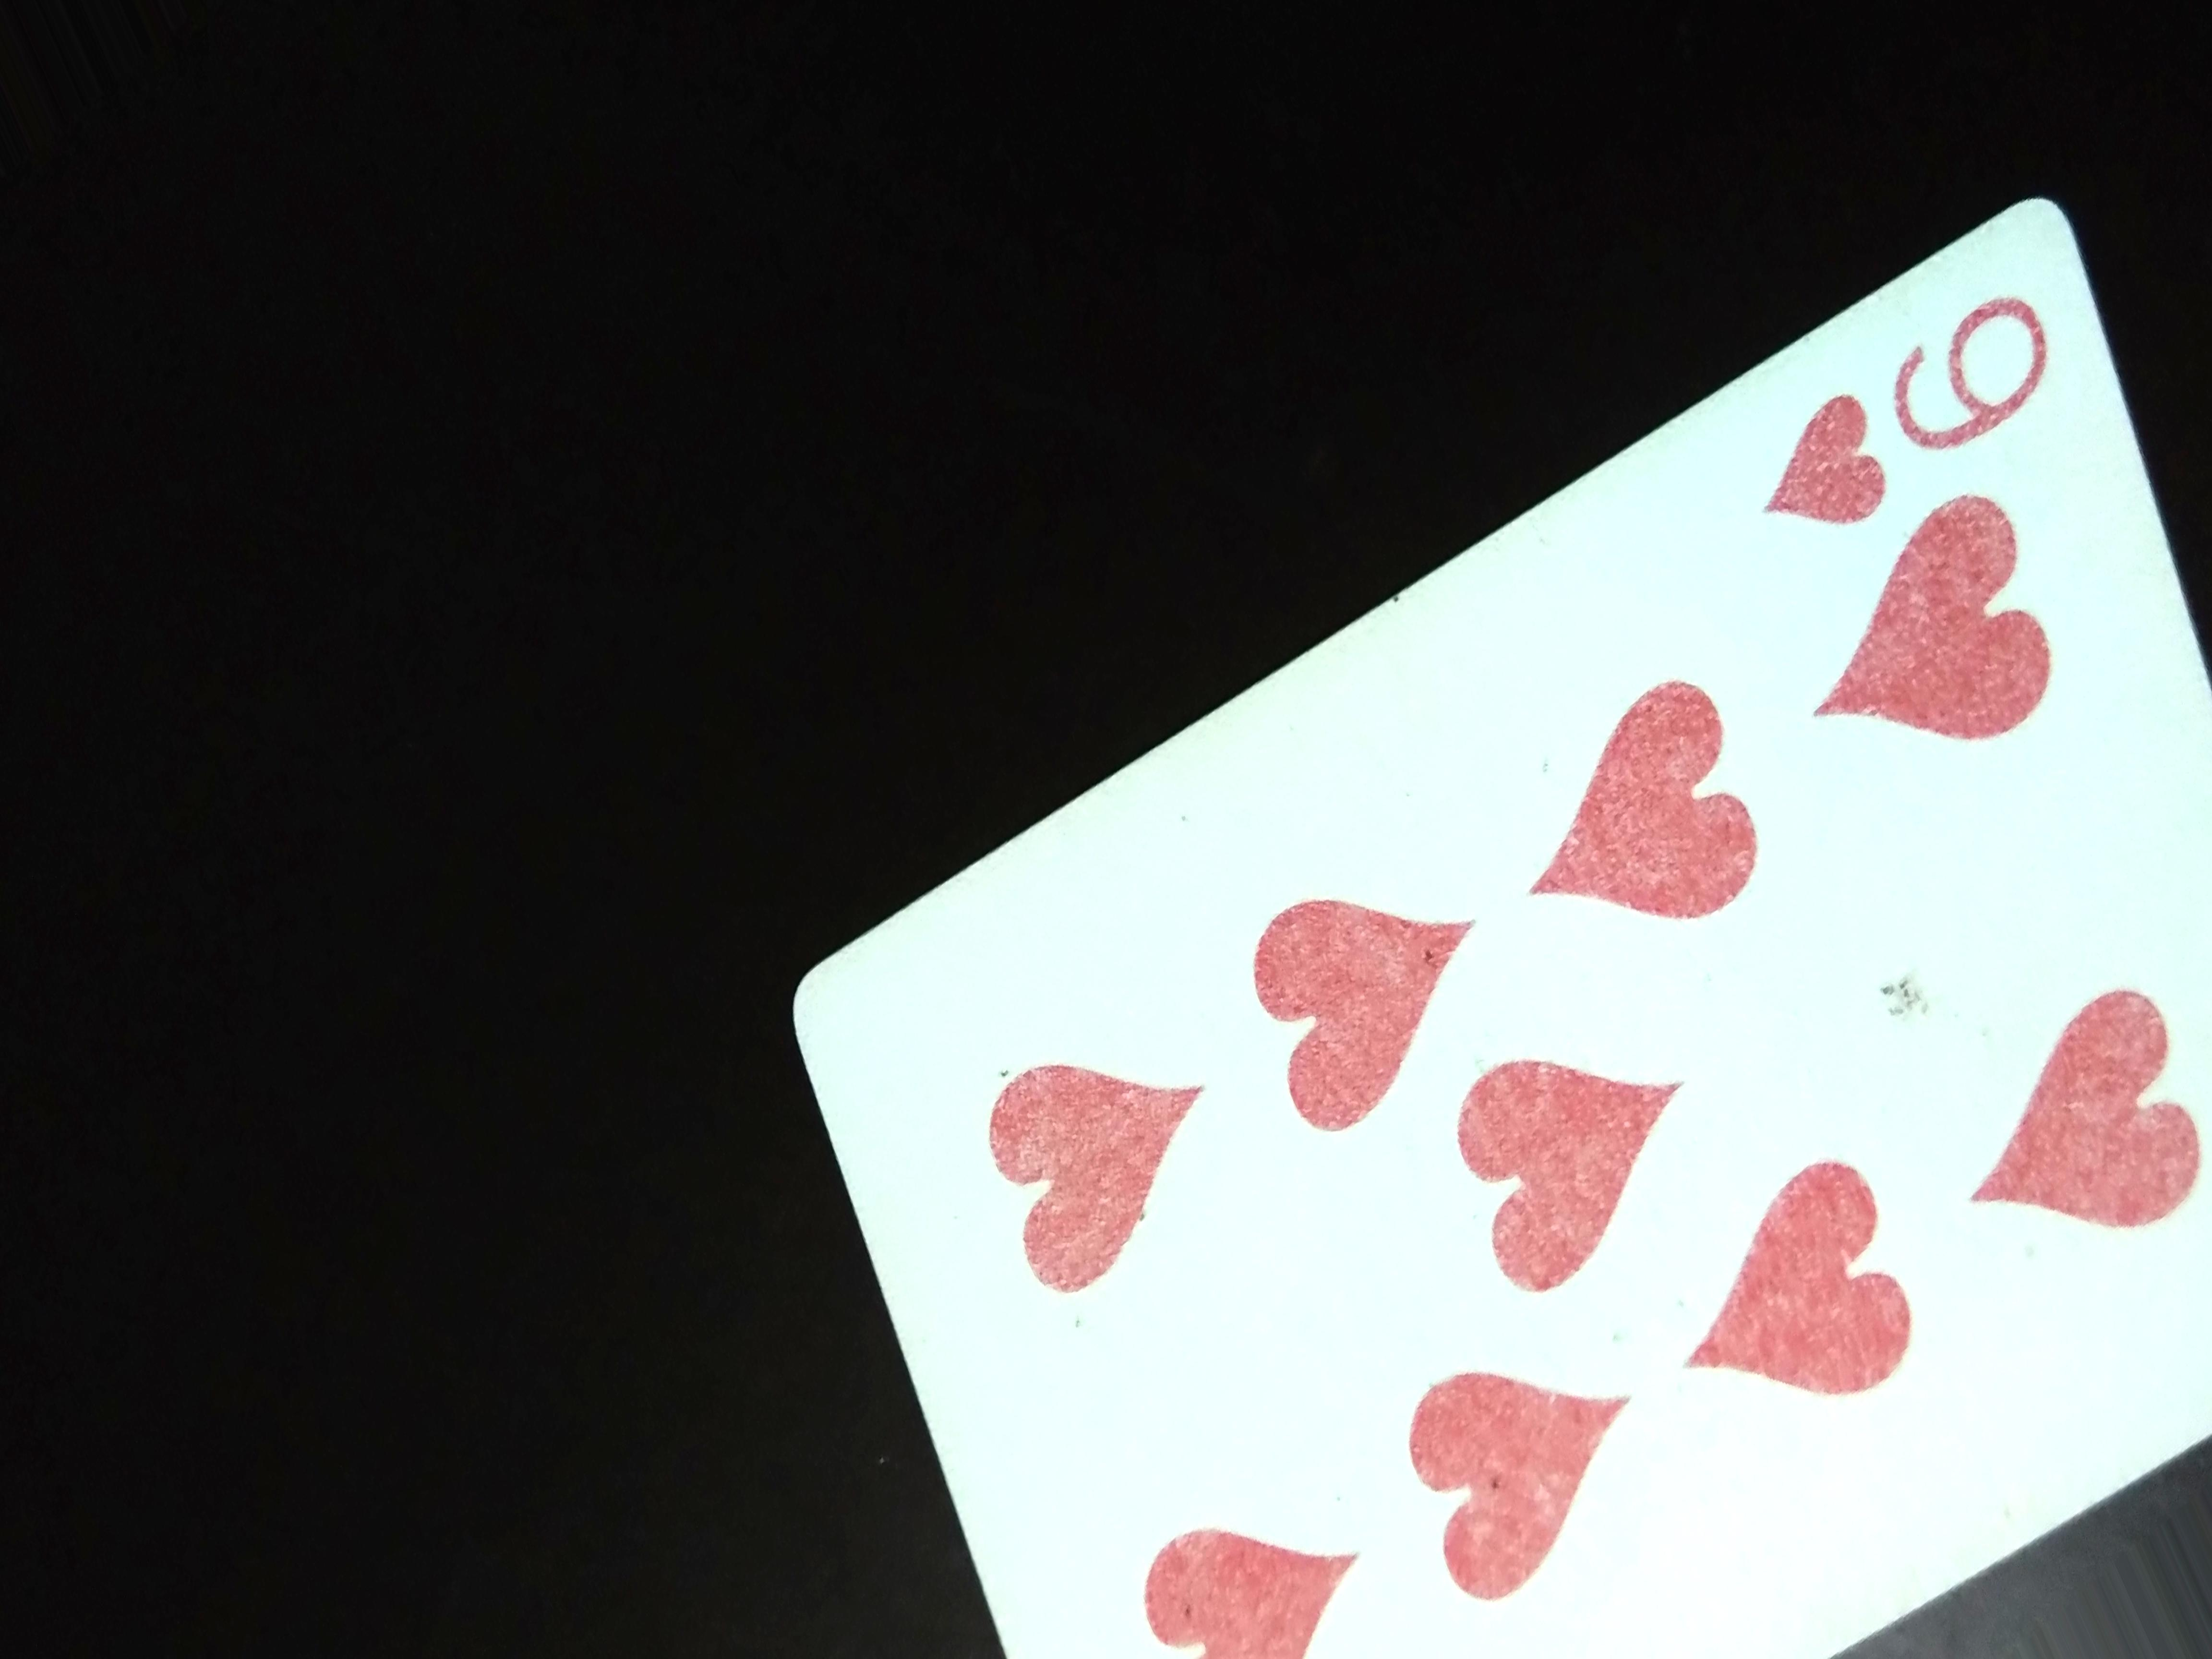9H: (1742, 281, 2066, 552)
